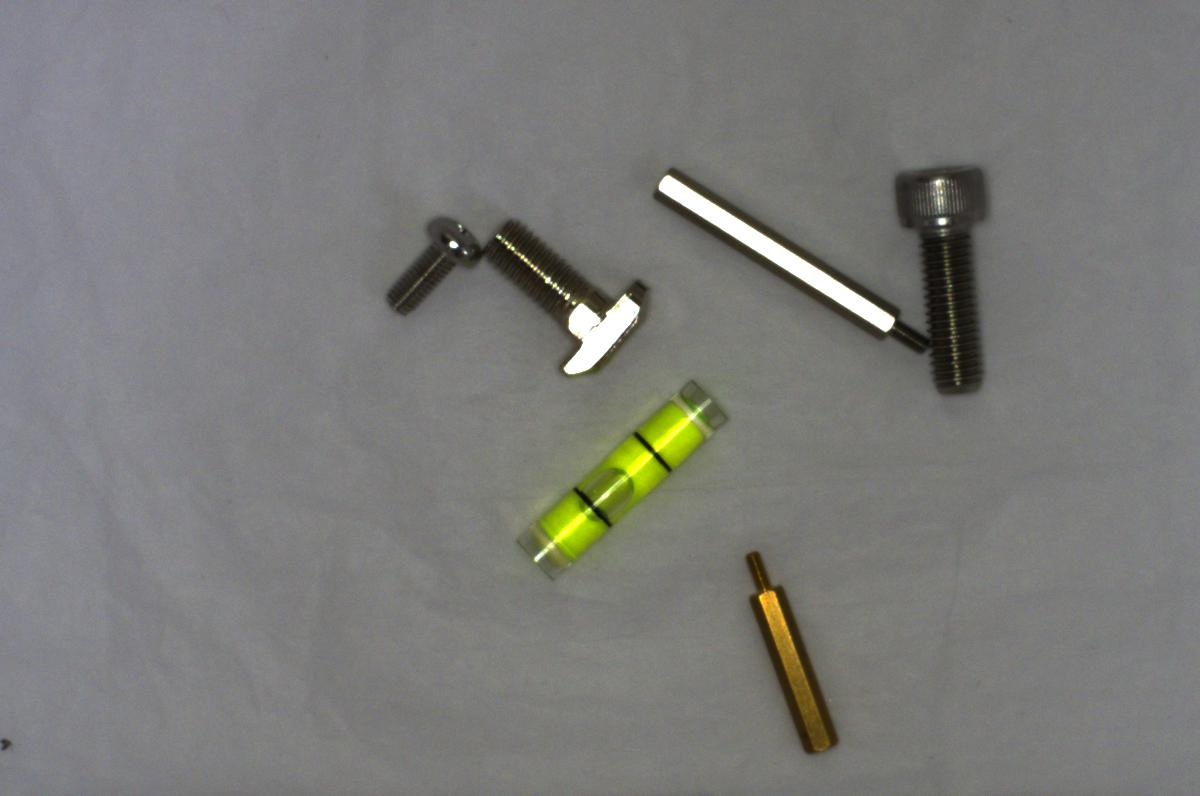Hexagon pillar: (741, 546, 841, 765)
Hexagon screw: (892, 161, 1000, 396)
Hexagonal steel column: (651, 160, 931, 358)
Horizontal bubble: (518, 368, 733, 587)
Round head screw: (371, 208, 485, 318)
T-shaped screw: (480, 215, 648, 373)
